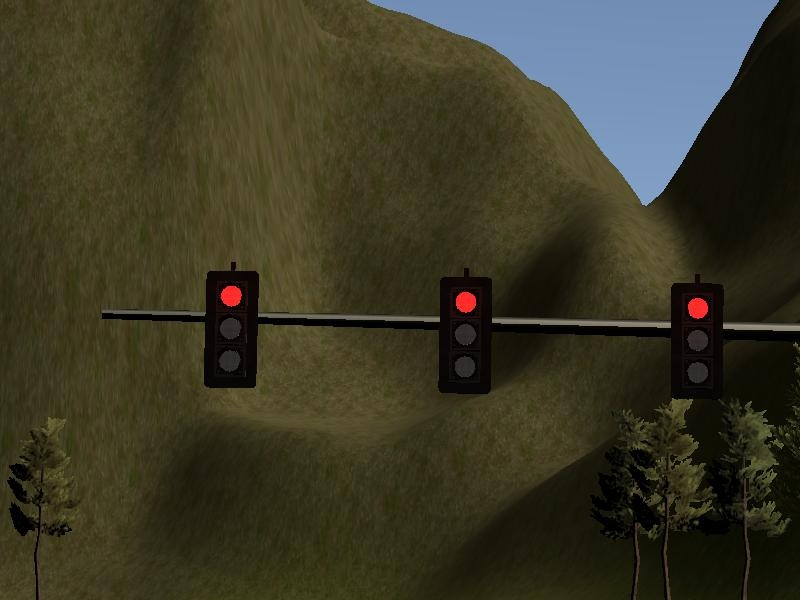red: (436, 270, 500, 403), (666, 278, 730, 403), (203, 268, 260, 393)
